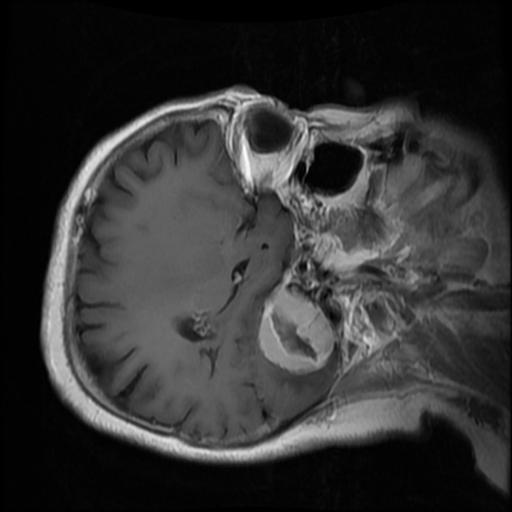meningioma: (258, 286, 334, 375)
